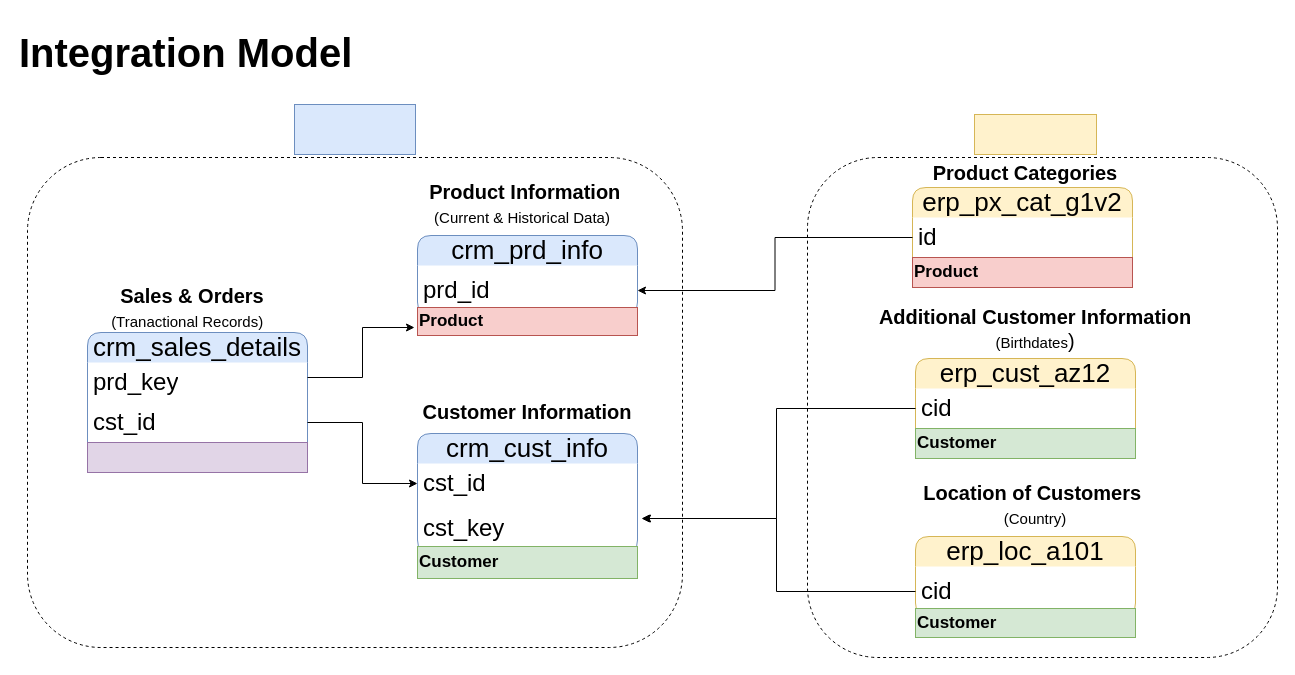
Some shapes in this 1295 by 675 pixel diagram are drawn without their labels. The shapes that lost their labels are listed below. From the top down, each one's centre as x and y in pixels, then its label:
At point (355, 129): "CRM".
At point (1035, 134): "ERP".
At point (197, 457): "Sales".
